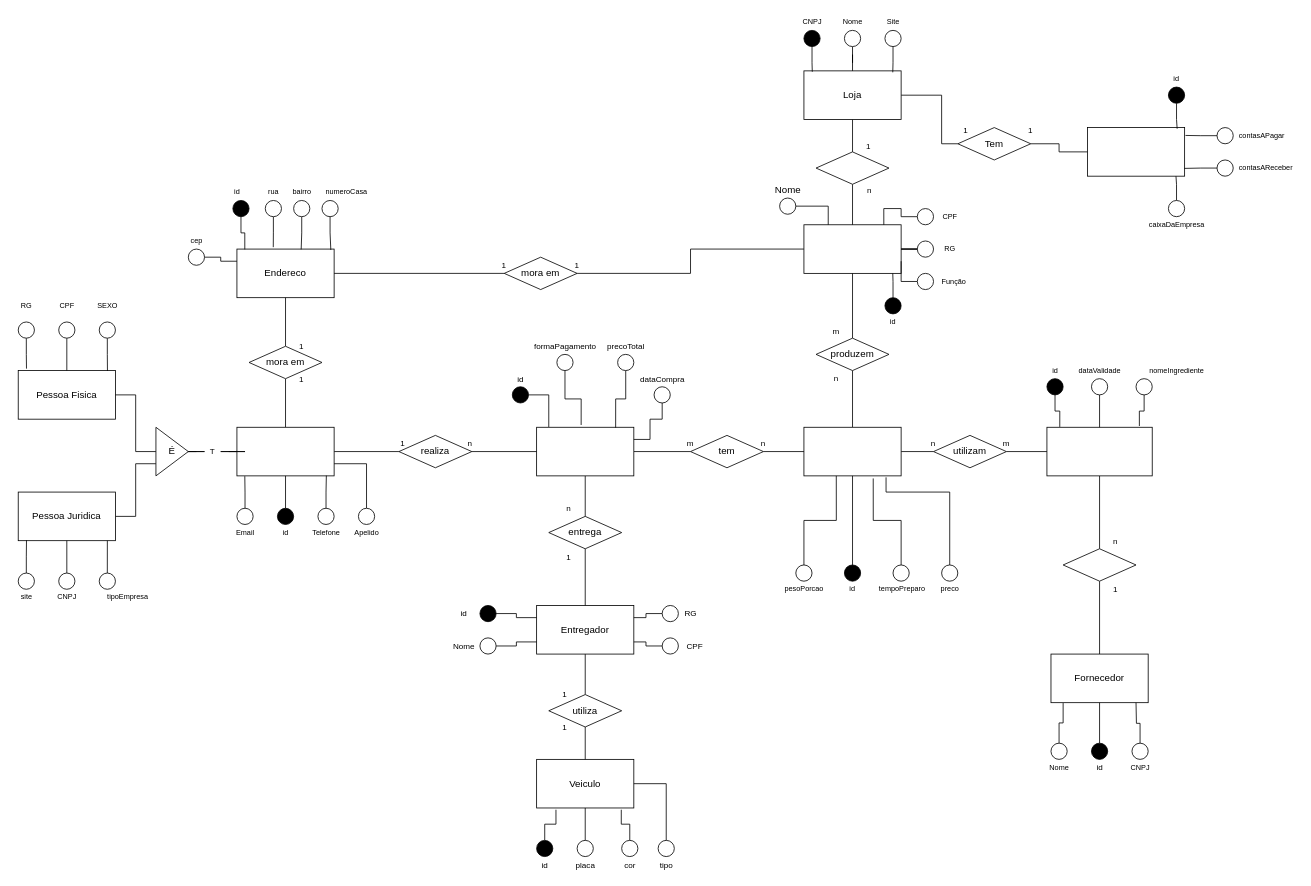
Image size: 1311x886. Some labels were removed from this diagram. The shapes that lost their labels are listed below. From the top down, each one's centre as x and y in pixels, then its label:
At pixel 852 167: "Contrata".
At pixel 1136 151: "Setor financeiro".
At pixel 852 248: "Funcionarios".
At pixel 285 451: "Usuario".
At pixel 585 451: "Compra".
At pixel 852 451: "Produtos (Batata Recheada)".
At pixel 1099 451: "estoque_ingredientes".
At pixel 1099 564: "Fornecem".
